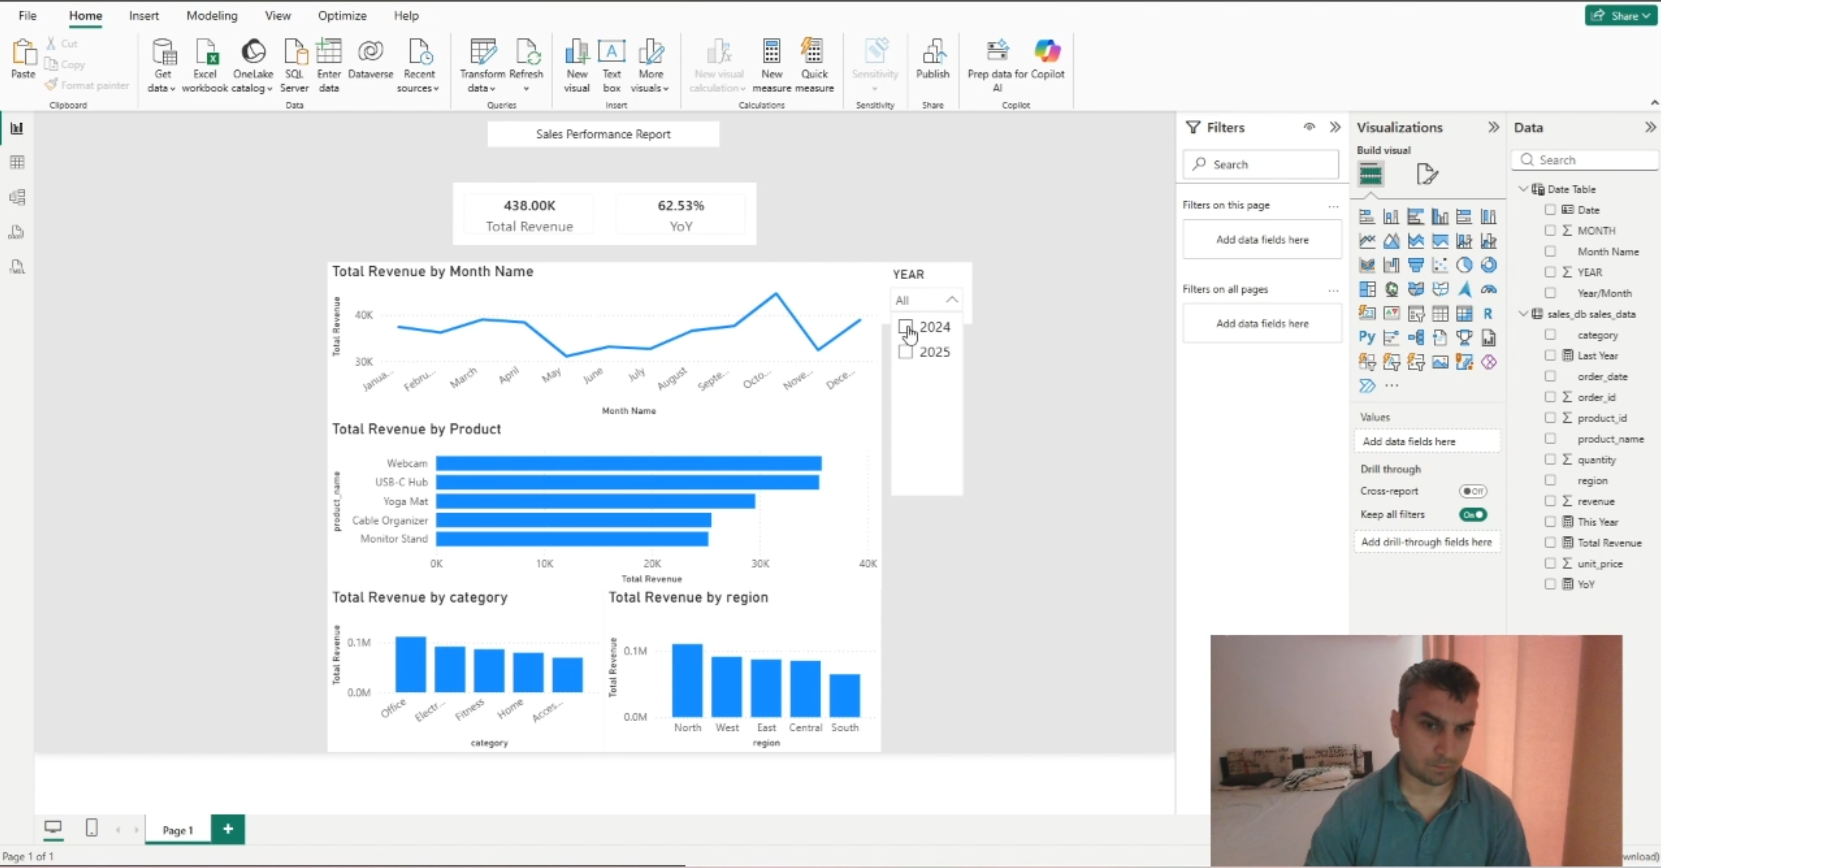

Layout of this report page (visuals, bound fields, positions):
{"tool":"powerbi","page":{"name":"Page 1","canvas":[1280,720],"ordinal":0},"visuals":[{"type":"textbox","box":[530.2,11.1,219,47.6],"z":0},{"type":"cardVisual","fields":{"Data":["sales_db sales_data.YoY"]},"box":[639.7,81,169.8,69.8],"z":4},{"type":"cardVisual","fields":{"Data":["sales_db sales_data.Total Sales"]},"box":[469.8,81,169.8,69.8],"z":5},{"type":"slicer","fields":{"Values":["Date Table.YEAR"]},"box":[1007.9,190.5,123.8,73],"z":6},{"type":"lineChart","fields":{"Category":["Date Table.Month Name","Date Table.YEAR"],"Y":["sales_db sales_data.Total Sales"]},"box":[265.1,190.5,742.9,169.8],"z":7},{"type":"clusteredBarChart","title":"Revenue By Region","fields":{"Category":["sales_db sales_data.region"],"Y":["sales_db sales_data.Total Sales"]},"box":[265.1,530.2,374.6,190.5],"z":8},{"type":"clusteredBarChart","title":"Revenue By Category","fields":{"Category":["sales_db sales_data.category"],"Y":["sales_db sales_data.Total Sales"]},"box":[639.7,530.2,368.3,190.5],"z":9},{"type":"clusteredColumnChart","title":"Top 5 Products","fields":{"Y":["sales_db sales_data.Total Sales"],"Category":["sales_db sales_data.product_name"]},"box":[265.1,360.3,742.9,169.8],"z":10}]}

Visuals, with their boxes on the page's 1280x720 design canvas (x1, y1, x2, y2). These are canvas units, not pixel positions in the 1837x868 screenshot, which may show the page scaled, cropped or inside an application window:
textbox: bbox=(530, 11, 749, 59)
cardVisual - sales_db sales_data.YoY: bbox=(640, 81, 810, 151)
cardVisual - sales_db sales_data.Total Sales: bbox=(470, 81, 640, 151)
slicer - Date Table.YEAR: bbox=(1008, 190, 1132, 264)
lineChart - Date Table.Month Name x Date Table.YEAR: bbox=(265, 190, 1008, 360)
"Revenue By Region" clusteredBarChart: bbox=(265, 530, 640, 721)
"Revenue By Category" clusteredBarChart: bbox=(640, 530, 1008, 721)
"Top 5 Products" clusteredColumnChart: bbox=(265, 360, 1008, 530)
